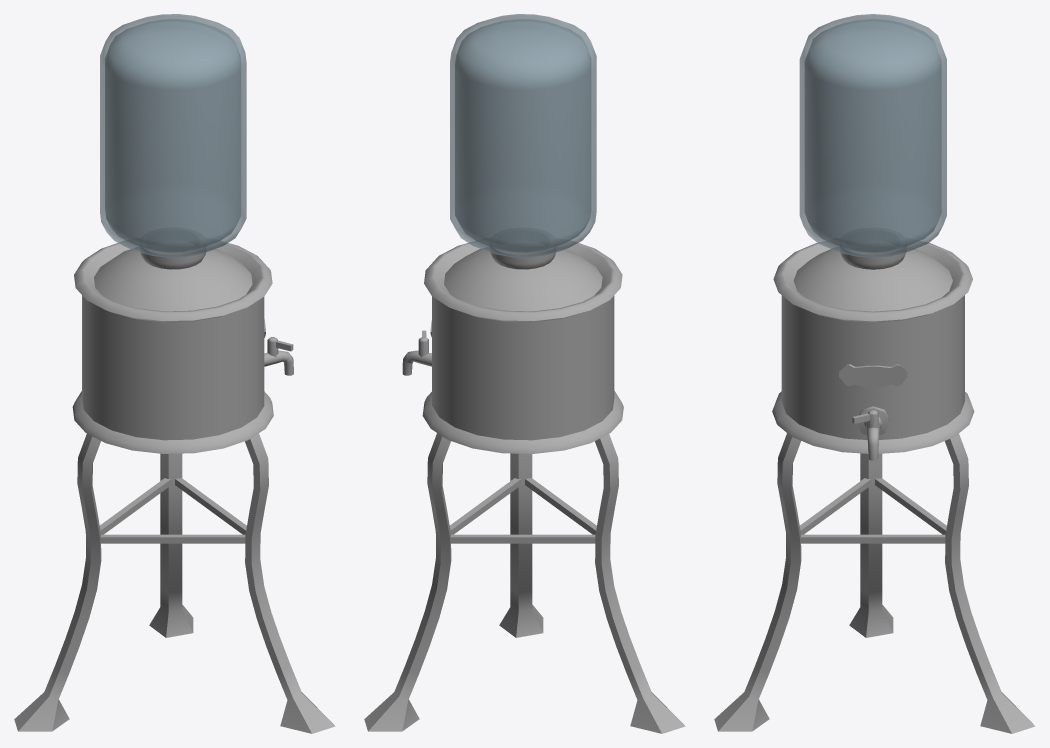
File: watercooler.fbx
3 views of the same model, side by side, from view 1: azimuth 30°, elevation 25°; view 2: azimuth 150°, elevation 25°; view 3: azimuth 270°, elevation 25° (orthographic).
Parts seen in each view (by area): view 1: watercooler_metal, water_container, water; view 2: watercooler_metal, water_container, water; view 3: watercooler_metal, water_container, water.
Part boxes in pixels (<box>): watercooler_metal: <box>14,240,335,733</box>; water_container: <box>100,14,246,257</box>; water: <box>105,22,240,251</box>; watercooler_metal: <box>364,240,685,733</box>; water_container: <box>450,14,596,257</box>; water: <box>455,22,590,251</box>; watercooler_metal: <box>714,241,1035,733</box>; water_container: <box>799,14,946,257</box>; water: <box>805,22,941,251</box>.
Bounding box in the file's own units: 3.52 × 7.93 × 3.51.
